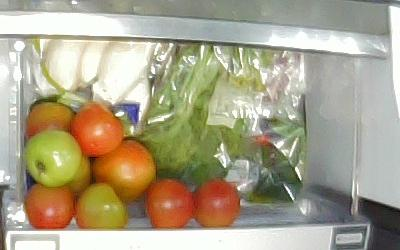tomato: (92, 139, 155, 203), (23, 129, 80, 188), (71, 102, 122, 156), (146, 178, 192, 228), (26, 181, 74, 228), (192, 181, 241, 226), (77, 184, 127, 228), (61, 155, 90, 195)
